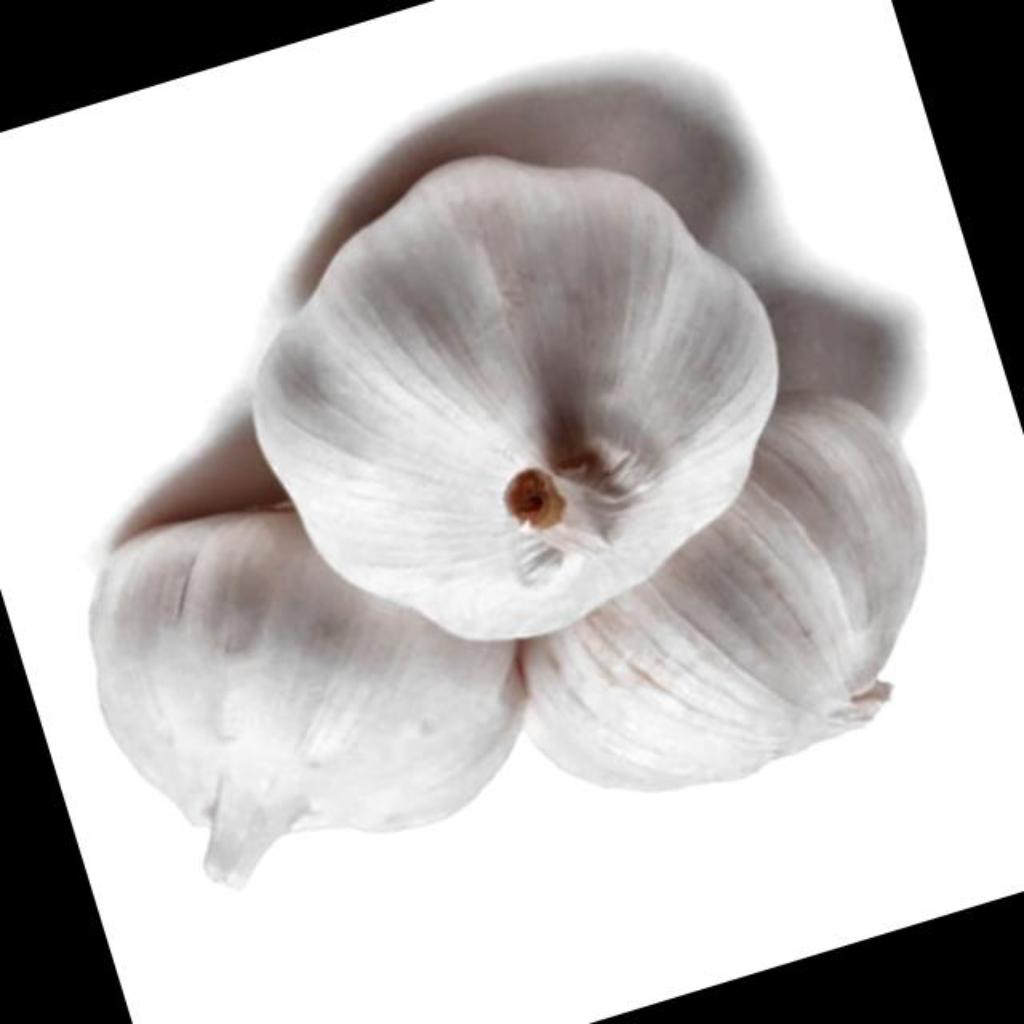garlic: (254, 158, 778, 639), (92, 506, 524, 885), (524, 396, 924, 789)
